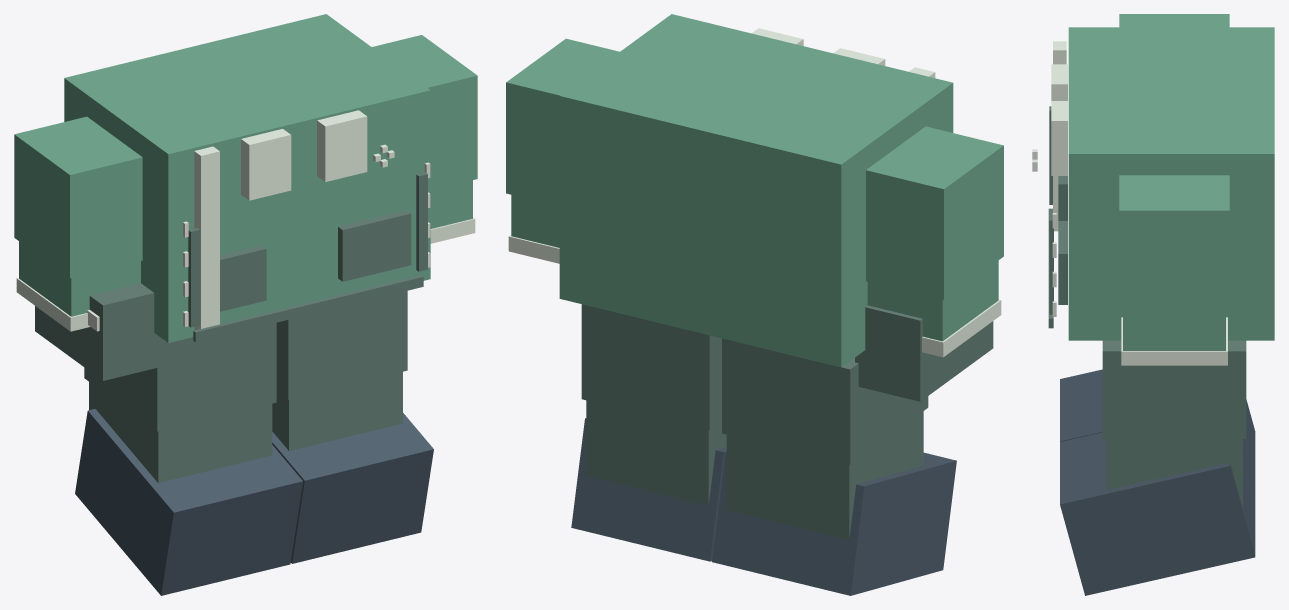
The model's file is student-emerald.glb.
3 renders of one model, left to right at view 1: azimuth 30°, elevation 25°; view 2: azimuth 150°, elevation 25°; view 3: azimuth 270°, elevation 25°, orthographic. The views are drawn at different scales.
Parts seen in each view (by area): view 1: jacket, shoe-Right, upper-sleeve-Right, shoe-Left, trouser-Right, trouser-Left, lower-trouser-Right, upper-sleeve-Left, satchel, lower-trouser-Left, pocket-1, satchel-strap (+10 smaller); view 2: jacket, upper-sleeve-Right, shoe-Right, trouser-Right, trouser-Left, lower-trouser-Right, lower-trouser-Left, upper-sleeve-Left, shoe-Left, satchel, lower-sleeve-Right, lower-sleeve-Left (+2 smaller); view 3: jacket, shoe-Left, upper-sleeve-Left, trouser-Left, lower-trouser-Left, lower-sleeve-Left, shoe-Right, cuff-Left, upper-sleeve-Right, lapel-1, pocket-1, lapel--1 (+3 smaller).
Boxes of the visible parts, x1=… form: jacket: x1=64, y1=14, x2=430, y2=342; shoe-Right: x1=75, y1=409, x2=302, y2=595; upper-sleeve-Right: x1=14, y1=116, x2=142, y2=278; shoe-Left: x1=272, y1=413, x2=433, y2=563; trouser-Right: x1=84, y1=322, x2=276, y2=431; trouser-Left: x1=276, y1=290, x2=407, y2=399; lower-trouser-Right: x1=89, y1=382, x2=272, y2=482; upper-sleeve-Left: x1=372, y1=35, x2=477, y2=190; satchel: x1=35, y1=283, x2=163, y2=380; lower-trouser-Left: x1=272, y1=372, x2=402, y2=451; pocket-1: x1=338, y1=210, x2=411, y2=281; satchel-strap: x1=194, y1=146, x2=219, y2=330; jacket: x1=559, y1=14, x2=953, y2=367; upper-sleeve-Right: x1=866, y1=126, x2=1003, y2=300; shoe-Right: x1=712, y1=452, x2=956, y2=595; trouser-Right: x1=722, y1=338, x2=928, y2=464; trouser-Left: x1=581, y1=304, x2=721, y2=430; lower-trouser-Right: x1=726, y1=411, x2=923, y2=539; lower-trouser-Left: x1=586, y1=400, x2=726, y2=505; upper-sleeve-Left: x1=506, y1=38, x2=619, y2=206; shoe-Left: x1=571, y1=418, x2=726, y2=561; satchel: x1=855, y1=305, x2=993, y2=401; lower-sleeve-Right: x1=867, y1=260, x2=998, y2=341; lower-sleeve-Left: x1=511, y1=195, x2=559, y2=247; jacket: x1=1068, y1=27, x2=1274, y2=340; shoe-Left: x1=1060, y1=432, x2=1255, y2=595; upper-sleeve-Left: x1=1119, y1=175, x2=1229, y2=312; trouser-Left: x1=1102, y1=340, x2=1246, y2=438; lower-trouser-Left: x1=1106, y1=439, x2=1242, y2=507; lower-sleeve-Left: x1=1123, y1=312, x2=1225, y2=350; shoe-Right: x1=1060, y1=369, x2=1255, y2=493; cuff-Left: x1=1121, y1=317, x2=1227, y2=365; upper-sleeve-Right: x1=1119, y1=14, x2=1229, y2=27; lapel-1: x1=1051, y1=101, x2=1067, y2=175; pocket-1: x1=1058, y1=221, x2=1067, y2=304; lapel--1: x1=1051, y1=64, x2=1067, y2=100.
Bounding box in the file's own units: 1.07 × 1.13 × 0.559.
